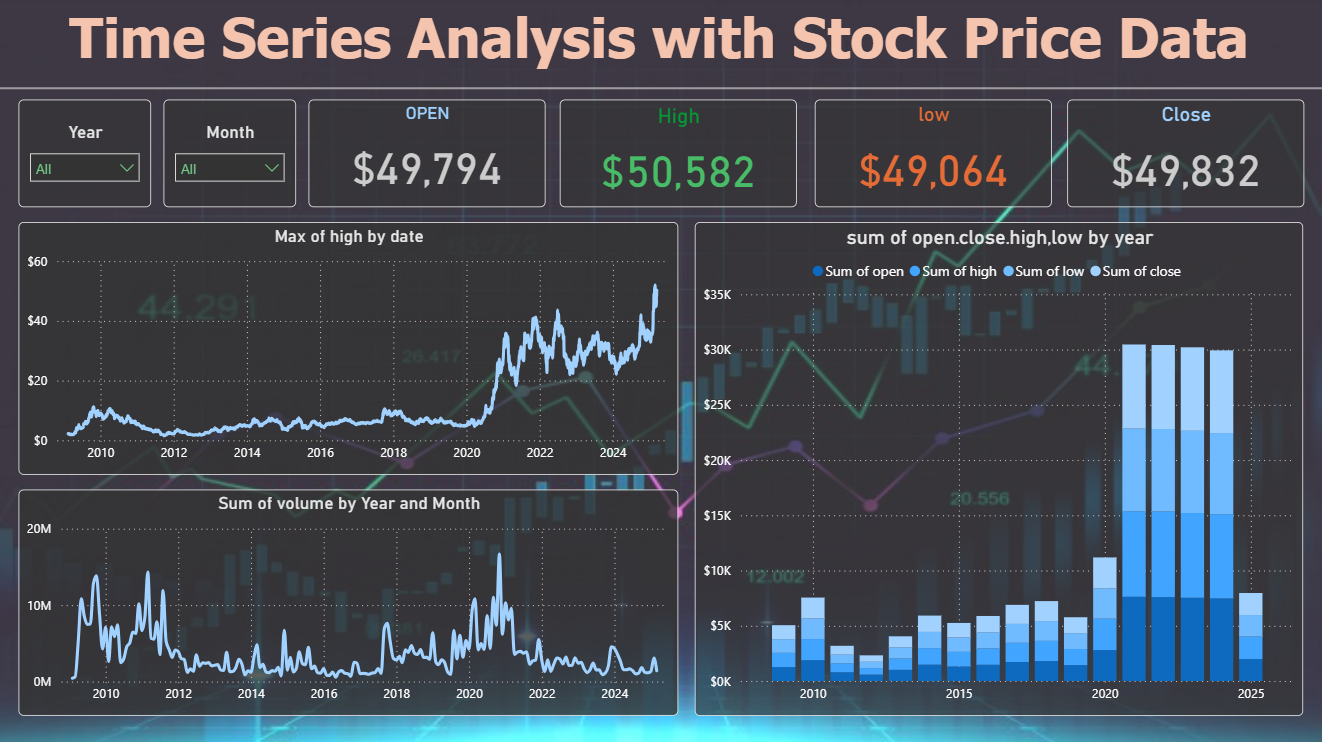

This screenshot's page, from the dashboard's own definition file:
{"tool":"powerbi","page":{"name":"Stock Data Analysis","canvas":[1280,720],"ordinal":0},"visuals":[{"type":"card","title":"OPEN","fields":{"Values":["Sum(cleaned_data.open)"]},"box":[301.4,98.6,228.6,104.3],"z":0},{"type":"card","title":"High","fields":{"Values":["Sum(cleaned_data.high)"]},"box":[544.3,98.6,228.6,104.3],"z":1000},{"type":"card","title":"low","fields":{"Values":["Sum(cleaned_data.low)"]},"box":[790,98.6,228.6,104.3],"z":2000},{"type":"card","title":"Close","fields":{"Values":["Sum(cleaned_data.close)"]},"box":[1034.3,98.6,228.6,104.3],"z":3000},{"type":"textbox","box":[0,0,1280,88.6],"z":4000},{"type":"shape","box":[0,13.3,1280,149.6],"z":5000},{"type":"slicer","title":"Month","fields":{"Values":["cleaned_data.date.Variation.Date Hierarchy.Month"]},"box":[161.7,98.9,127.9,103.8],"z":6000},{"type":"slicer","title":"Year","fields":{"Values":["cleaned_data.date.Variation.Date Hierarchy.Year"]},"box":[21.7,98.9,127.9,103.8],"z":7000},{"type":"lineChart","fields":{"Category":["cleaned_data.date"],"Y":["Max(cleaned_data.high)"]},"box":[21.7,217.2,637,243.7],"z":8000},{"type":"lineChart","fields":{"Category":["cleaned_data.date.Variation.Date Hierarchy.Year","cleaned_data.date.Variation.Date Hierarchy.Month"],"Y":["Sum(cleaned_data.volume)"]},"box":[21.7,475.3,637,218.4],"z":9000},{"type":"lineStackedColumnComboChart","title":"sum of open.close.high,low by year","fields":{"Category":["cleaned_data.date.Variation.Date Hierarchy.Year","cleaned_data.date.Variation.Date Hierarchy.Month","cleaned_data.date.Variation.Date Hierarchy.Day"],"Y":["Sum(cleaned_data.open)","Sum(cleaned_data.high)","Sum(cleaned_data.low)","Sum(cleaned_data.close)"]},"box":[674.4,217.2,587.5,476.5],"z":10000}]}

Visuals, with their boxes in screenshot pixels (x1, y1, x2, y2), scaled from the page's 1280x720 canvas onto the 1322x742 screenshot:
"OPEN" card: x1=311 y1=102 x2=547 y2=209
"High" card: x1=562 y1=102 x2=798 y2=209
"low" card: x1=816 y1=102 x2=1052 y2=209
"Close" card: x1=1068 y1=102 x2=1304 y2=209
textbox: x1=0 y1=0 x2=1321 y2=91
shape: x1=0 y1=14 x2=1321 y2=168
"Month" slicer: x1=167 y1=102 x2=299 y2=209
"Year" slicer: x1=22 y1=102 x2=155 y2=209
lineChart - cleaned_data.date x Max(cleaned_data.high): x1=22 y1=224 x2=680 y2=475
lineChart - cleaned_data.date.Variation.Date Hierarchy.Year x cleaned_data.date.Variation.Date Hierarchy.Month: x1=22 y1=490 x2=680 y2=715
"sum of open.close.high,low by year" lineStackedColumnComboChart: x1=697 y1=224 x2=1303 y2=715
